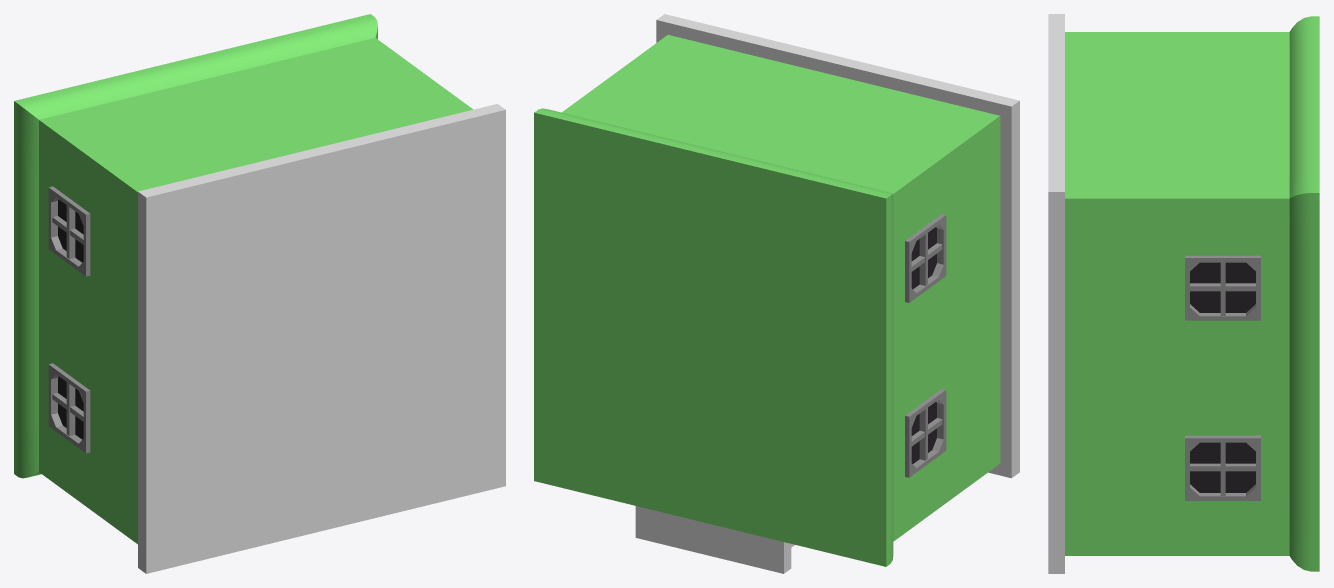
The model's file is house green.fbx.
3 views of the same model, side by side, from view 1: azimuth 30°, elevation 25°; view 2: azimuth 150°, elevation 25°; view 3: azimuth 270°, elevation 25° (orthographic). The views are drawn at different scales.
Visible parts, largest first — view 1: Cube; view 2: Cube; view 3: Cube.
Part boxes in pixels (box(x1,y1,x2,y2)): Cube: box(14, 14, 505, 573); Cube: box(534, 14, 1019, 573); Cube: box(1048, 14, 1319, 573).
Size of the model in its own units: 9.21 by 9.96 by 5.93.
